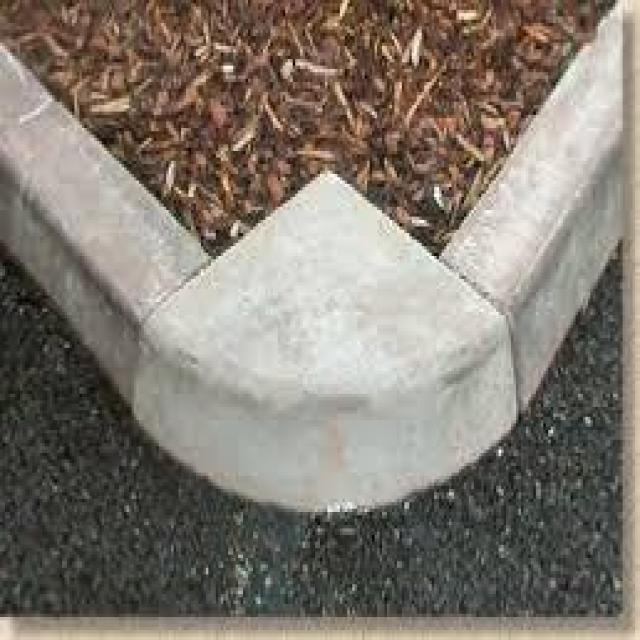curb: (74, 206, 523, 545), (483, 89, 616, 402), (2, 48, 159, 306)
